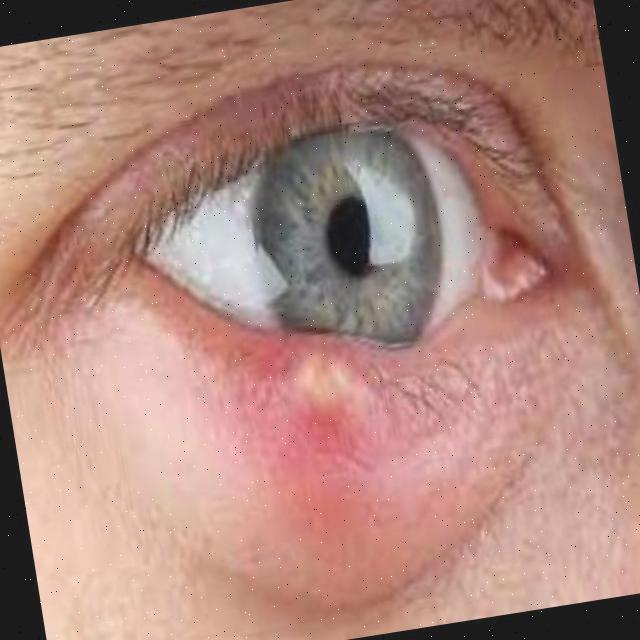Stye: (154, 274, 458, 563)
